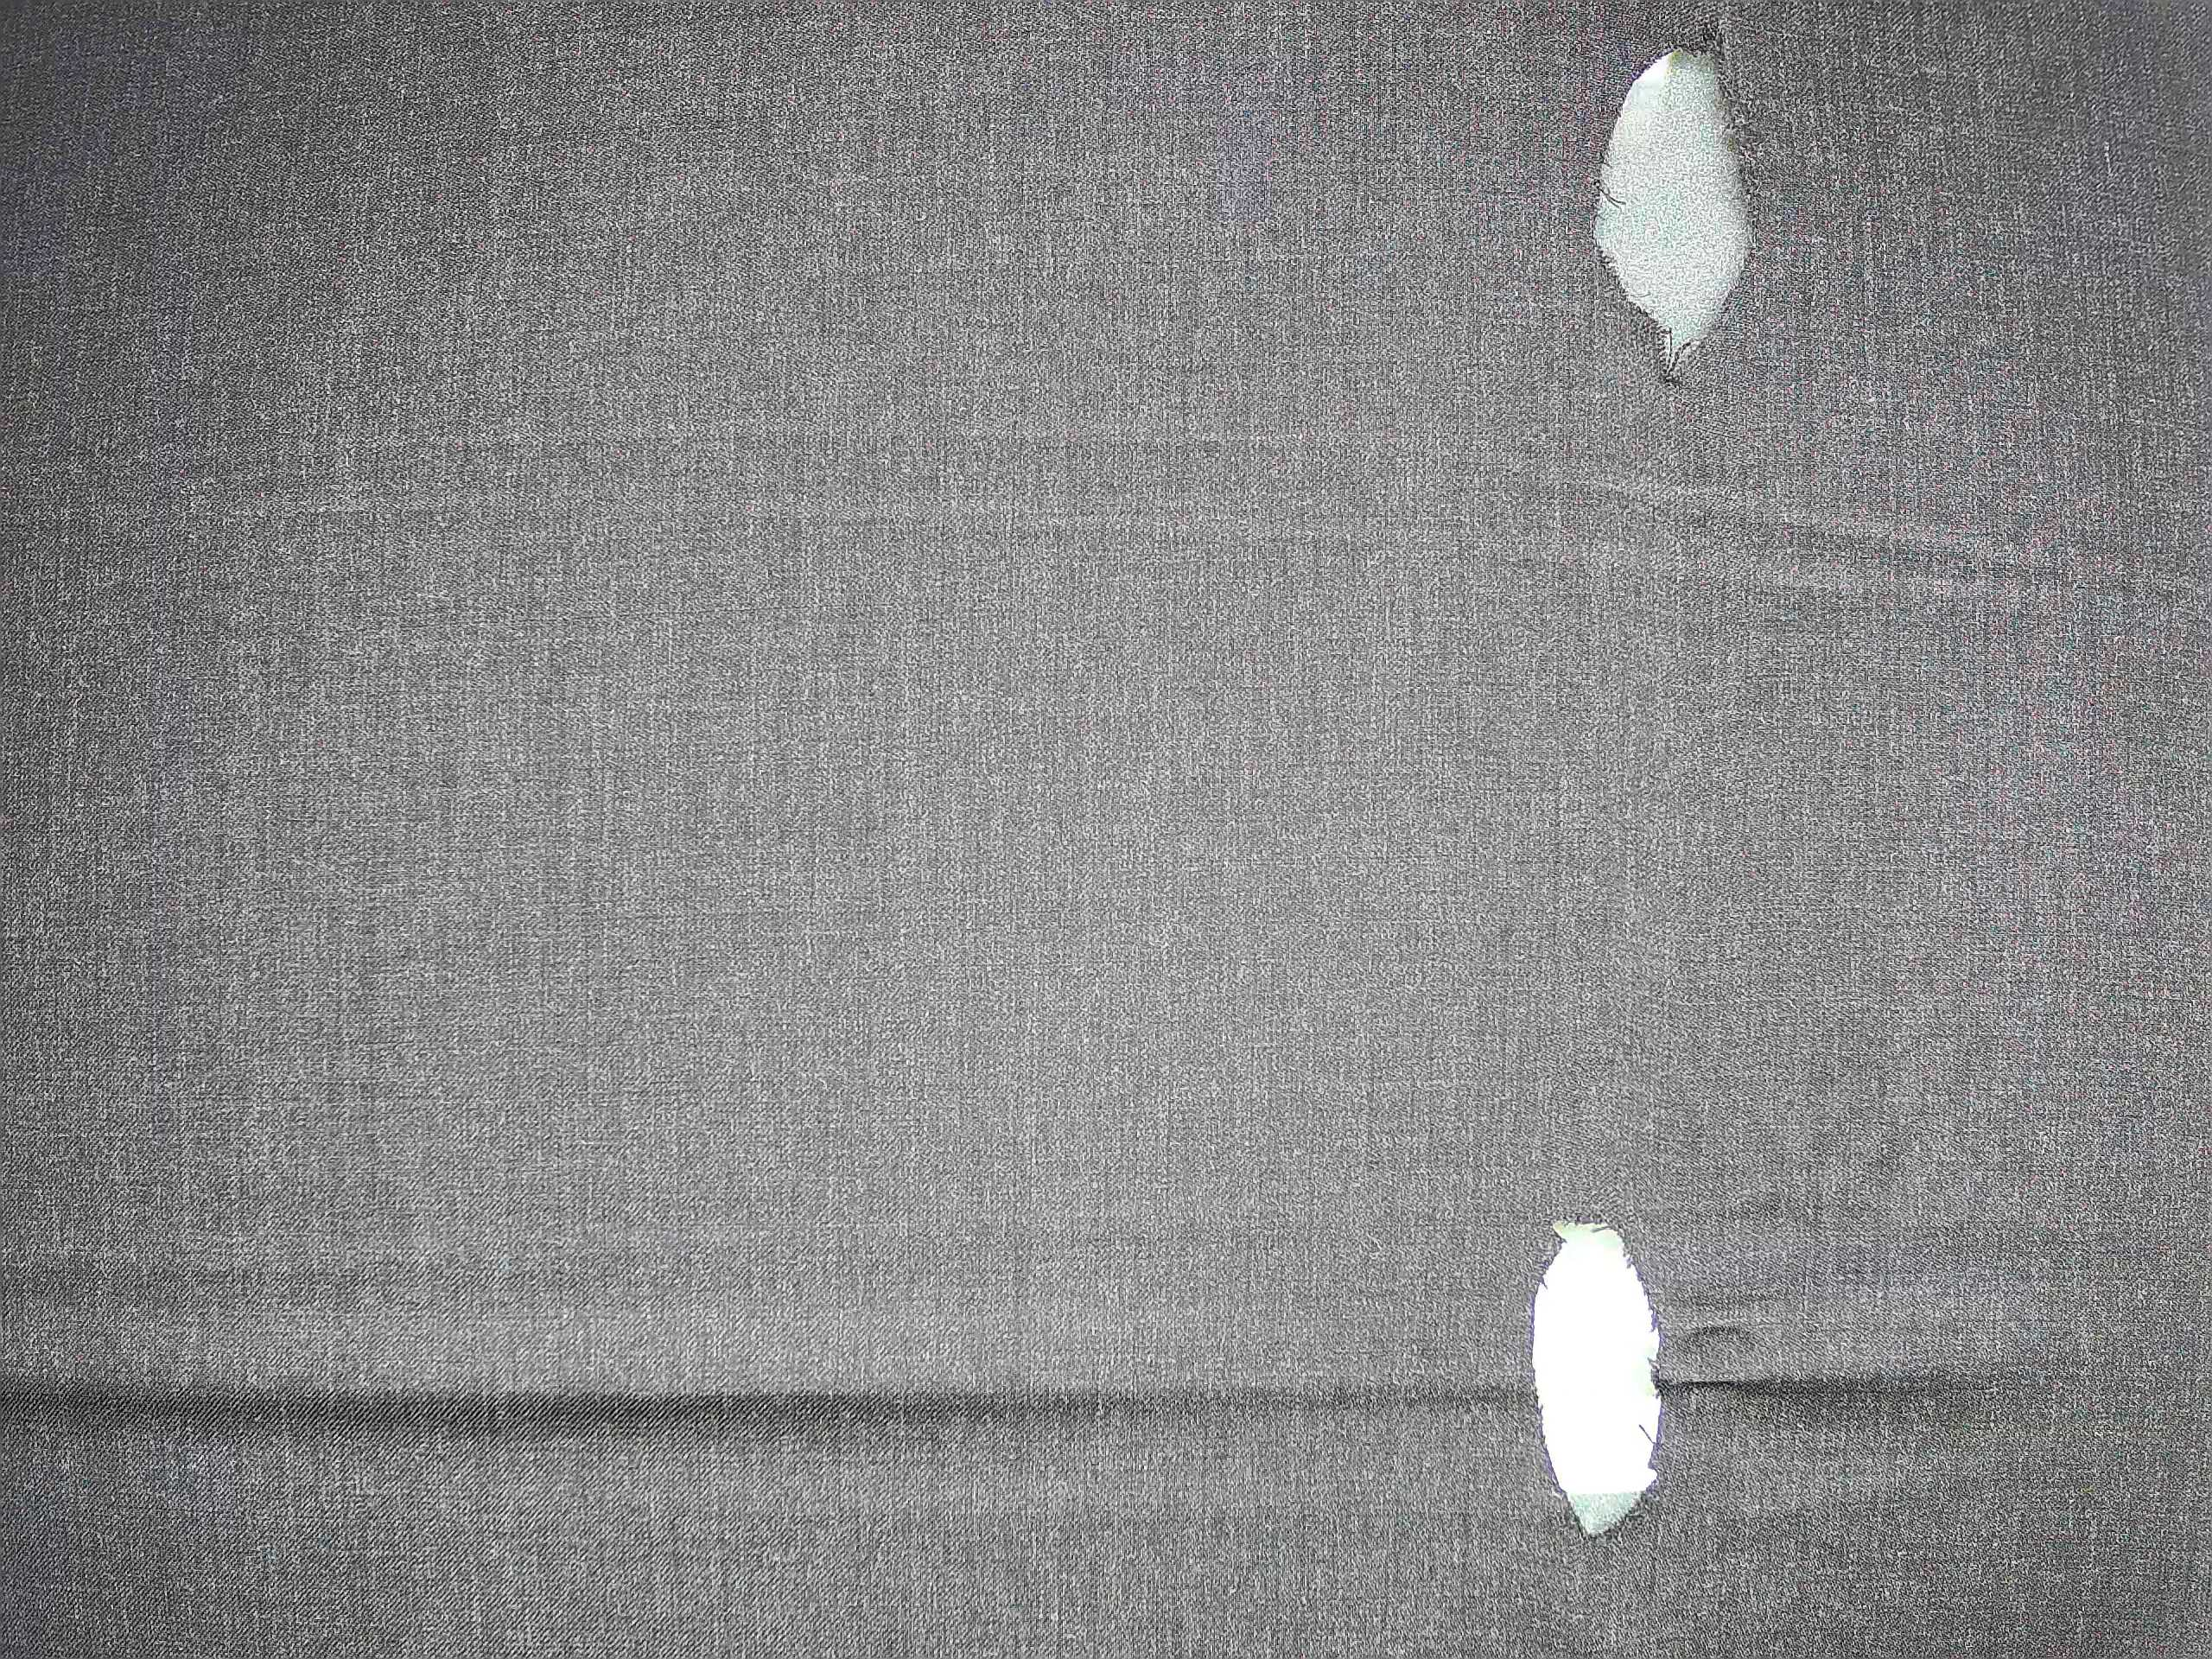brushed-hole: (1562, 21, 1787, 415), (1487, 1192, 1707, 1568)
